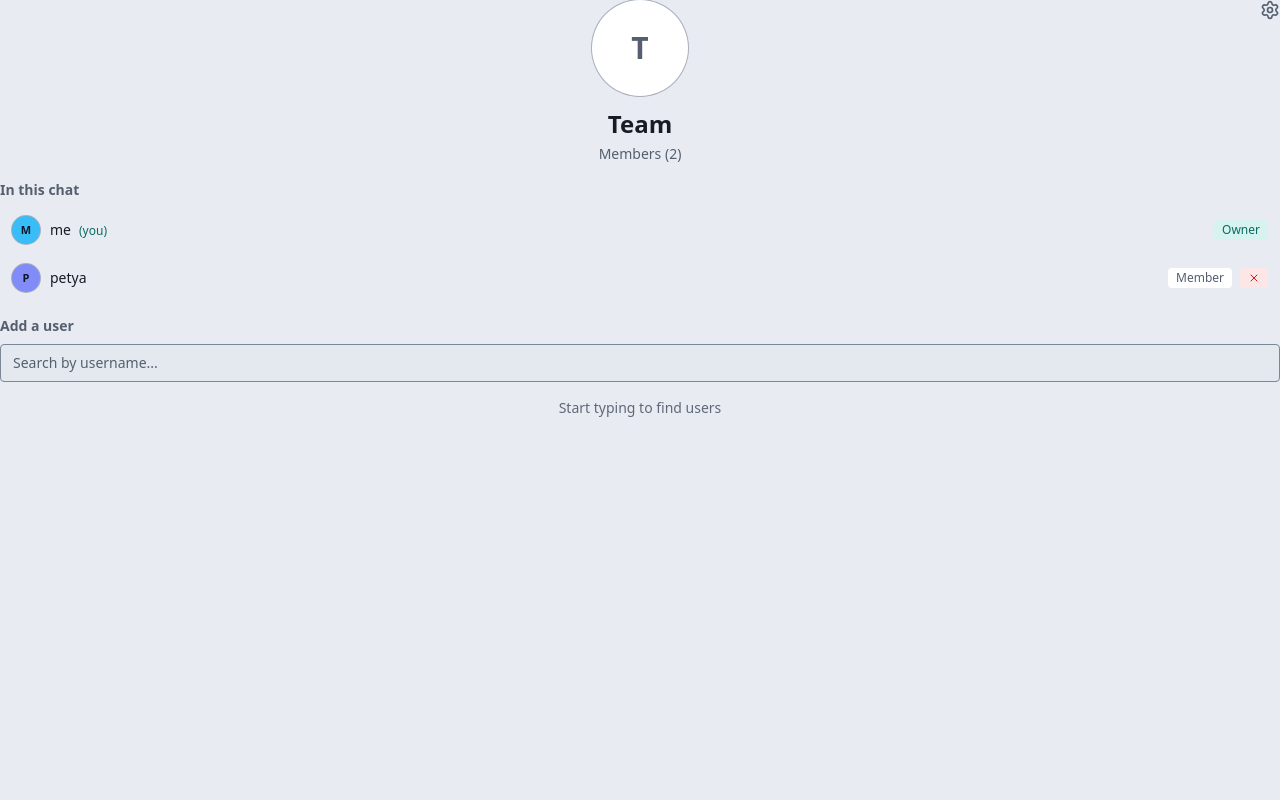
Test: ChatInfoContent › opens the profile of a member
Click the button with aria-label "Open the profile of petya": (49, 278) x1=12 y1=264 x2=87 y2=292
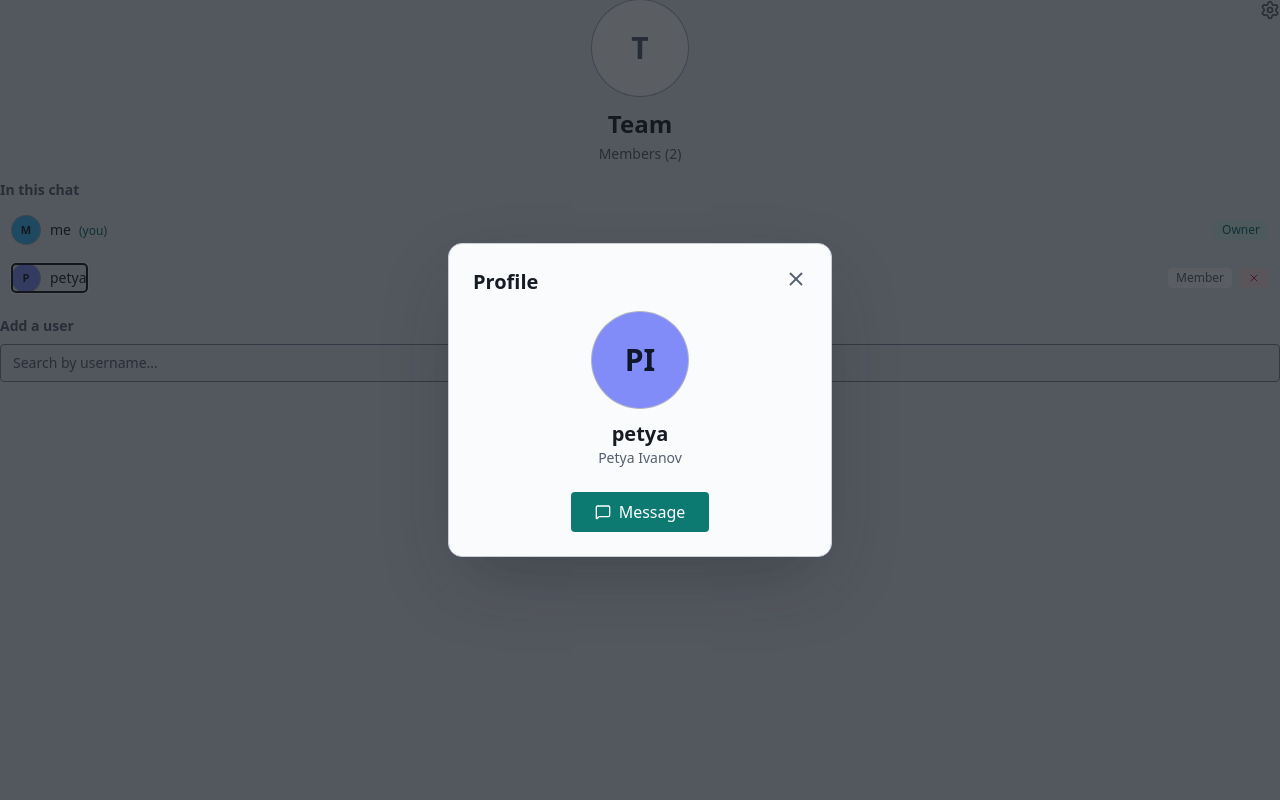
Now the text "Petya Ivanov" is shown, box x1=598 y1=448 x2=682 y2=467
